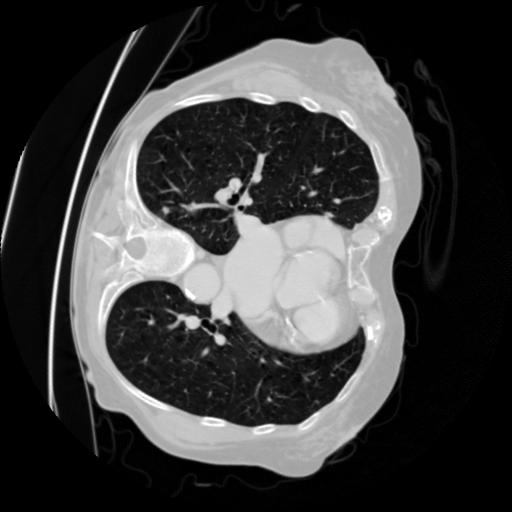nodule: (160, 204, 174, 218)
